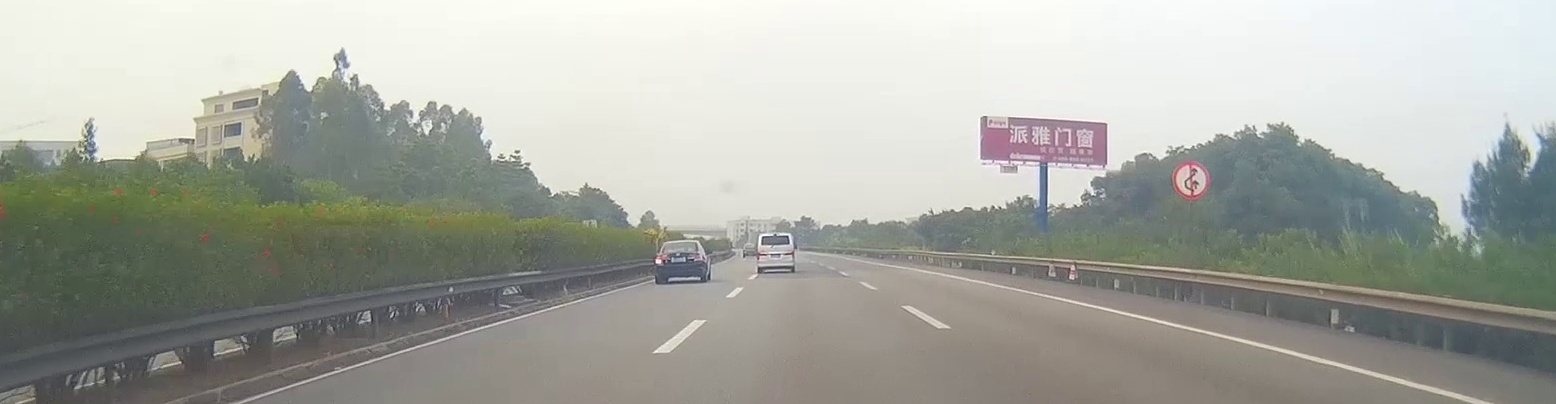L_light: (655, 255, 671, 263), (757, 252, 768, 260)
R_light: (687, 253, 705, 262), (784, 252, 794, 260)
T_light: (675, 241, 685, 243), (771, 235, 779, 237)
day-left: (654, 239, 707, 283)
day-no: (756, 232, 795, 273)
